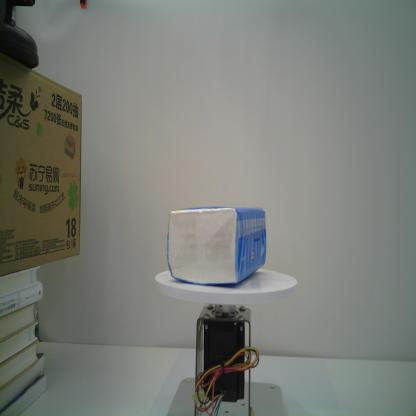Tissue: (166, 203, 268, 287)
